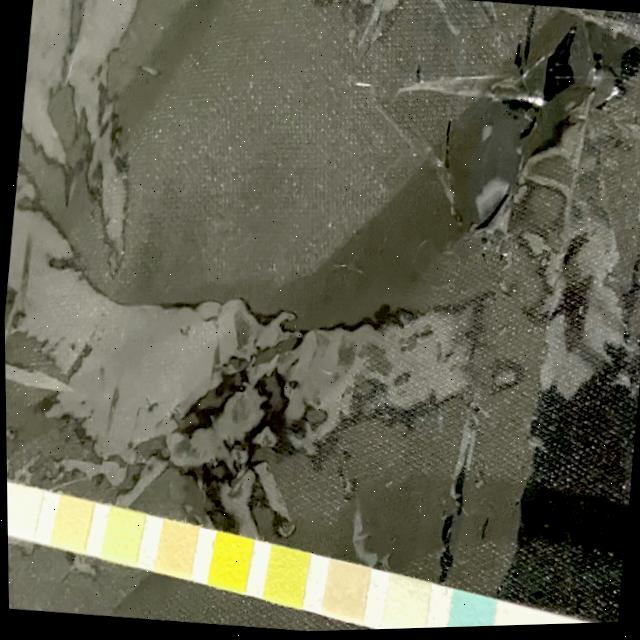Bilirubin: (380, 581, 425, 631)
Blood: (209, 537, 247, 589)
Glucose: (444, 597, 490, 630)
Ketone: (320, 566, 364, 619)
Leukocytes: (50, 498, 87, 548)
Nitrite: (6, 485, 35, 537)
Protein: (103, 510, 139, 563)
SpGravity: (263, 549, 304, 605)
pH: (156, 523, 192, 576)
